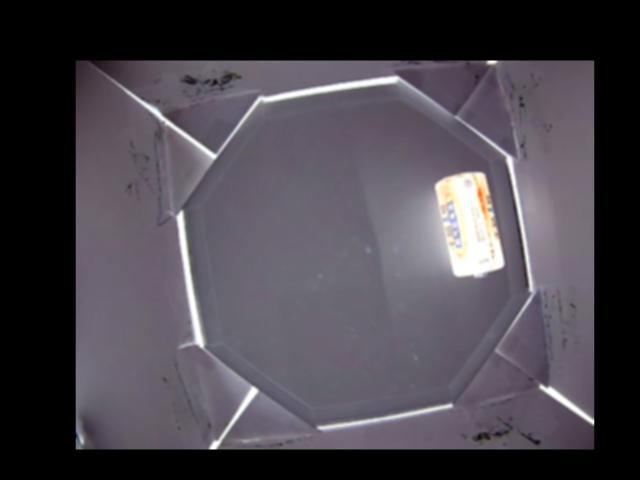Battery: (434, 170, 505, 277)
